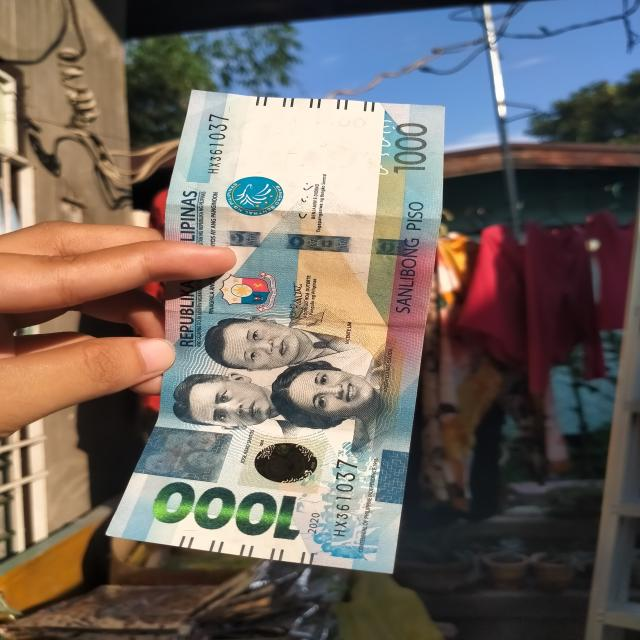concealed_value: (133, 426, 233, 483)
optically_variable_device: (238, 435, 329, 494)
security_thread: (166, 229, 435, 258)
see_through_mark: (375, 118, 396, 178)
value: (152, 478, 303, 541)
value_watermark: (311, 115, 367, 131)
